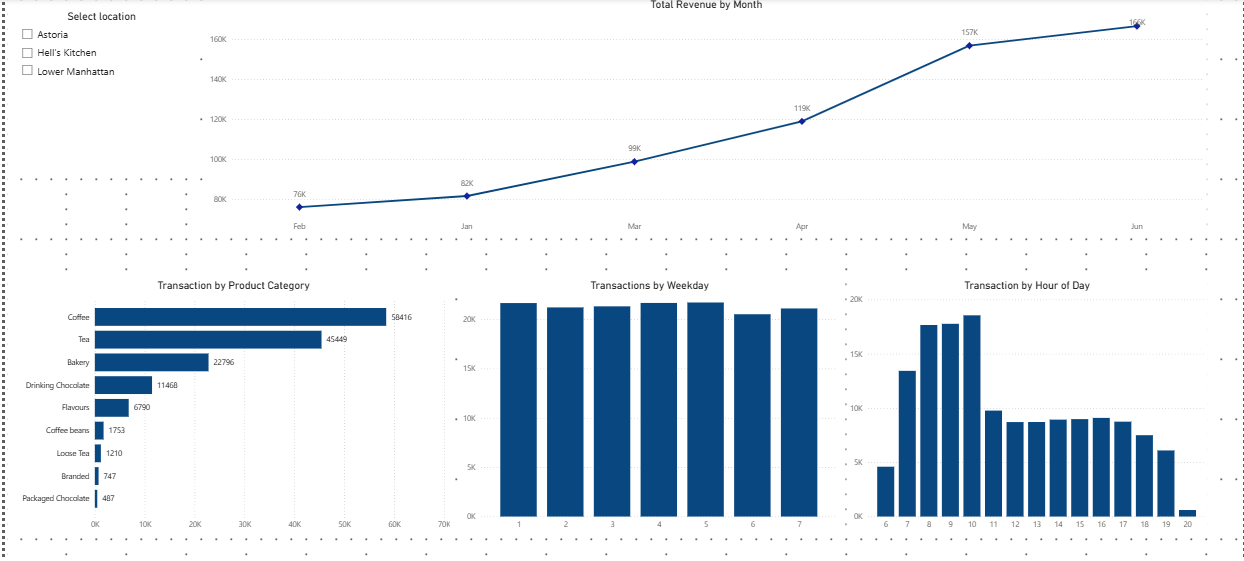

Layout of this report page (visuals, bound fields, positions):
{"tool":"powerbi","page":{"name":"Page 1","canvas":[1980,900],"ordinal":0},"visuals":[{"type":"lineChart","title":"Total Revenue by Month","fields":{"Category":["Transactions.Month Name"],"Y":["Sum(Transactions.Revenue)"]},"box":[322.7,0,1601.4,384],"z":0},{"type":"columnChart","title":"Transactions by Weekday ","fields":{"Y":["CountNonNull(Transactions.transaction_id)"],"Category":["Transactions.Weekday"]},"box":[727.1,449.4,608.7,410.6],"z":1000},{"type":"columnChart","title":"Transaction by Hour of Day","fields":{"Category":["Transactions.Hour"],"Y":["CountNonNull(Transactions.transaction_id)"]},"box":[1346,449.4,578,410.6],"z":2000},{"type":"barChart","title":"Transaction by Product Category","fields":{"Category":["Transactions.product_category"],"Y":["CountNonNull(Transactions.transaction_id)"]},"box":[14.3,449.4,702.6,410.6],"z":3000},{"type":"slicer","title":"Select location","fields":{"Values":["Transactions.store_location"]},"box":[14.3,18.4,279.8,261.4],"z":3001}]}

Visuals, with their boxes in screenshot pixels (x1, y1, x2, y2), scaled from the page's 1980x900 canvas onto the 1244x561 screenshot:
"Total Revenue by Month" lineChart: box(203, 0, 1209, 239)
"Transactions by Weekday " columnChart: box(457, 280, 839, 536)
"Transaction by Hour of Day" columnChart: box(846, 280, 1209, 536)
"Transaction by Product Category" barChart: box(9, 280, 450, 536)
"Select location" slicer: box(9, 11, 185, 174)
